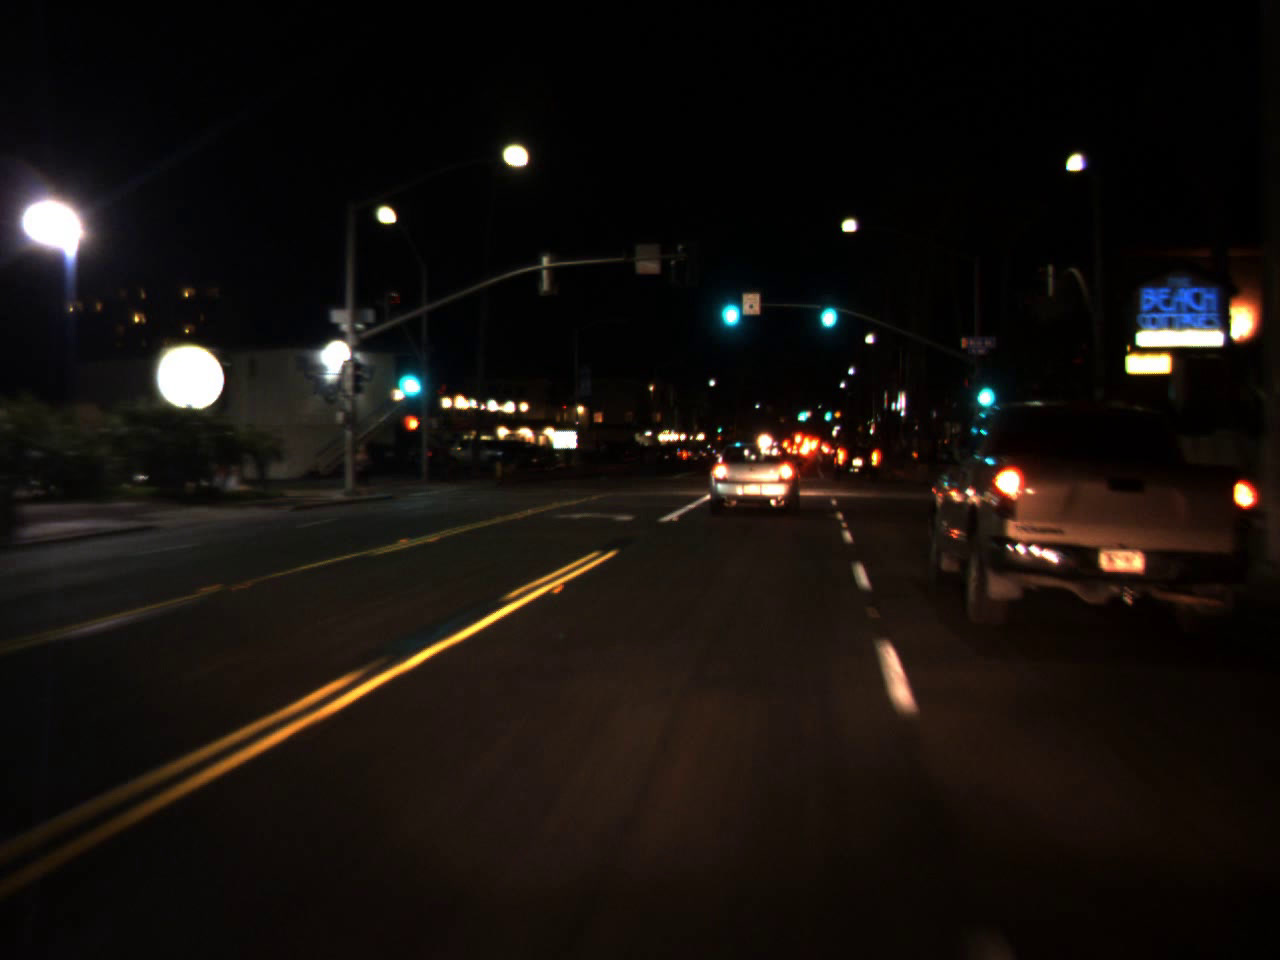go: (715, 277, 743, 334), (390, 355, 426, 397), (970, 363, 998, 414), (815, 283, 840, 334), (795, 400, 809, 424), (822, 400, 833, 424), (715, 422, 722, 434)
